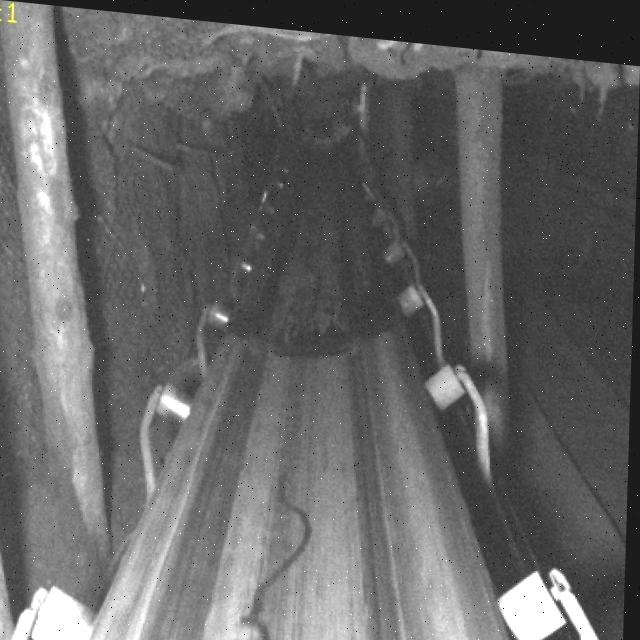bolt: (235, 460, 318, 640)
